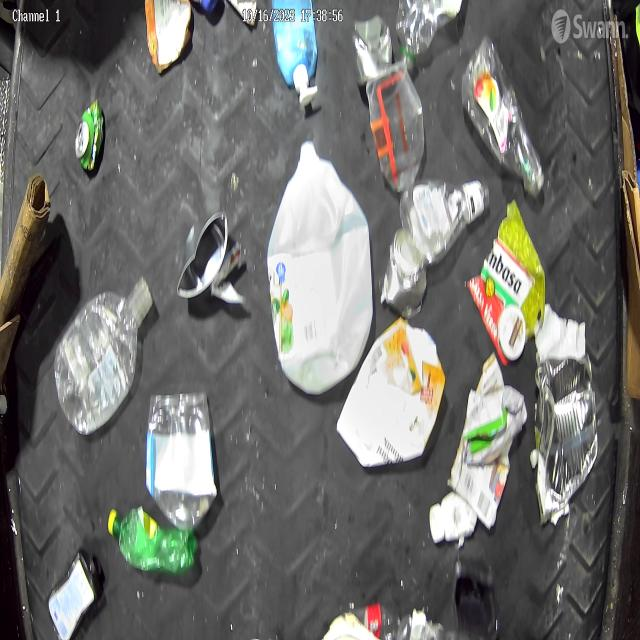can: (175, 208, 228, 300), (530, 363, 594, 432), (386, 233, 424, 315), (74, 100, 104, 170)
milk_jug: (265, 130, 372, 386)
plastic_bottle: (54, 275, 154, 436), (461, 38, 548, 188), (403, 182, 488, 251)
